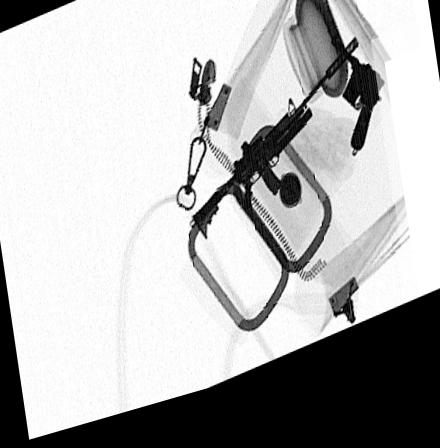Gun: (191, 57, 359, 250)
